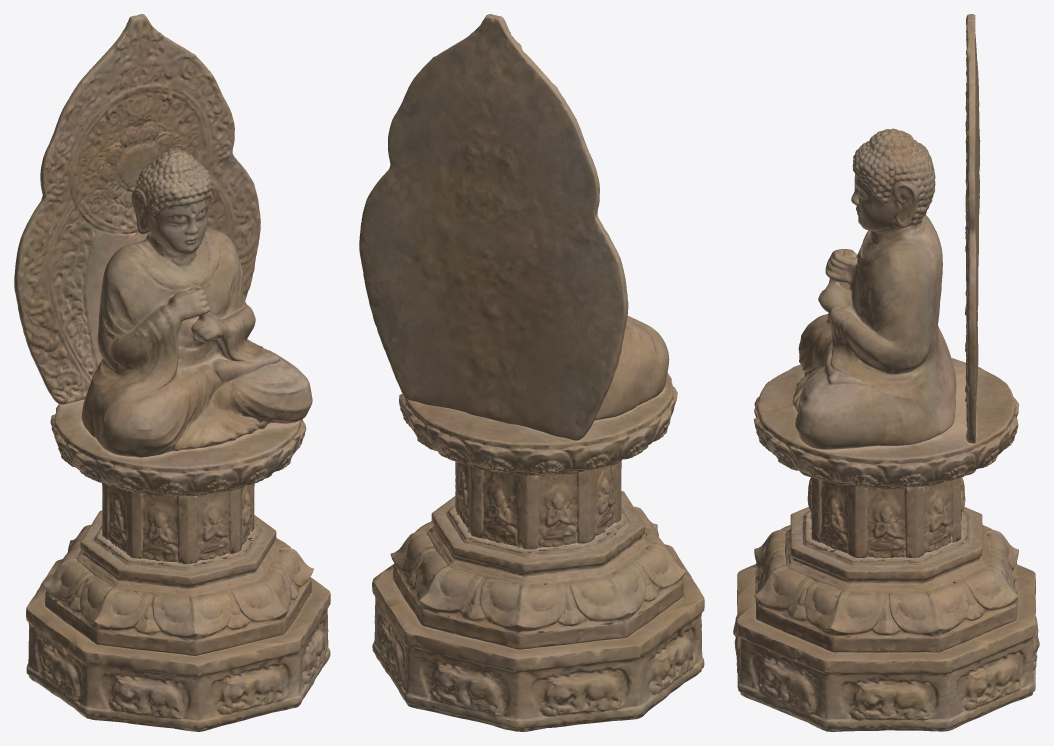
File: buddha.glb
3 renders of one model, left to right at view 1: azimuth 30°, elevation 25°; view 2: azimuth 150°, elevation 25°; view 3: azimuth 270°, elevation 25°, orthographic. The views are drawn at different scales.
Visible parts, largest first — view 1: SM_24RE0056_high; view 2: SM_24RE0056_high; view 3: SM_24RE0056_high.
Part boxes in pixels (left/top/right/bottom): SM_24RE0056_high: left=14, top=14, right=330, bottom=731; SM_24RE0056_high: left=359, top=14, right=704, bottom=731; SM_24RE0056_high: left=733, top=14, right=1039, bottom=731.
Bounding box in the file's own units: 1.24 × 2.92 × 1.24.
Materials: 1 (1 with a texture image).
